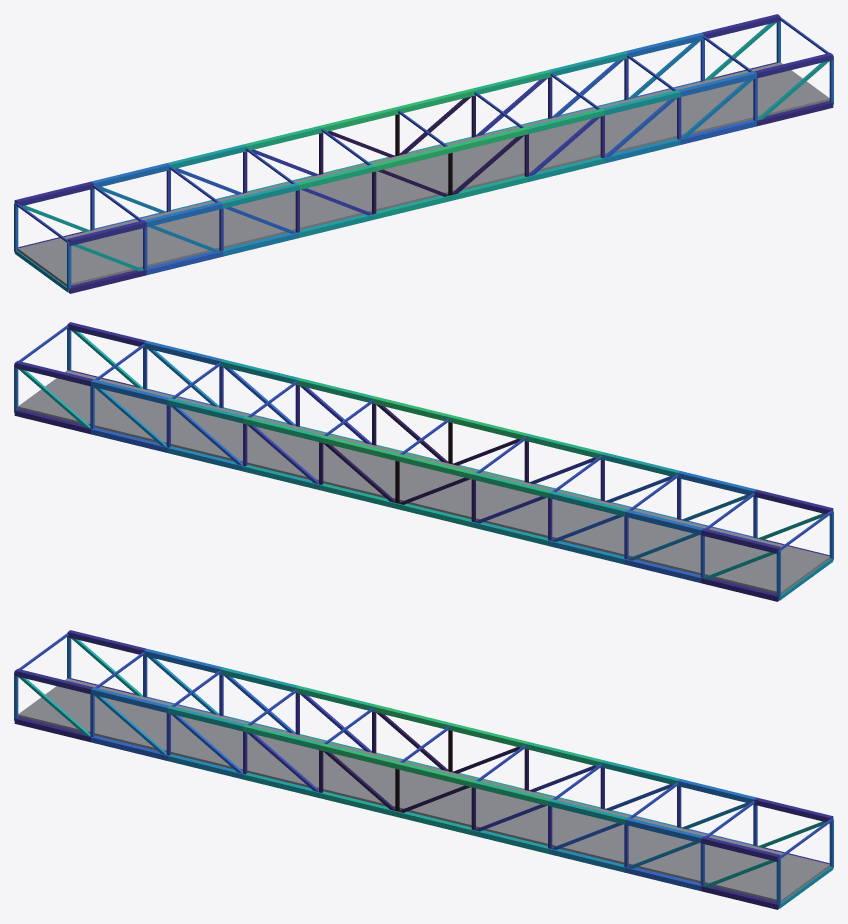
Rendered from 25_1.5_10_HEA240.glb.
The picture shows the model from 3 angles, top to bottom: view 1: azimuth 30°, elevation 25°; view 2: azimuth 150°, elevation 25°; view 3: azimuth 330°, elevation 25°; orthographic projection.
Size of the model in its own units: 25.09 by 1.66 by 3.16.
